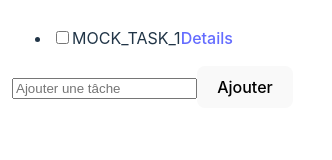
it: should add a task on form submit
Expected: the text "MOCK_TASK_1" is shown, x1=72 y1=28 x2=181 y2=48
Type "MOCK_TASK_2" into the field with placeholder "Ajouter une tâche" at (104, 88), box x1=12 y1=78 x2=197 y2=99
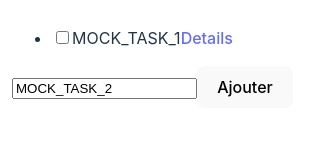
On pourra alors cliquer sur le bouton de soumission
Click the button "Ajouter" at (245, 87), box x1=197 y1=66 x2=293 y2=108
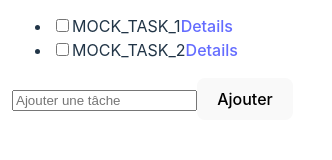
Expected: the text "MOCK_TASK" is shown 2 times, x1=52 y1=16 x2=233 y2=36; x1=52 y1=40 x2=238 y2=60
